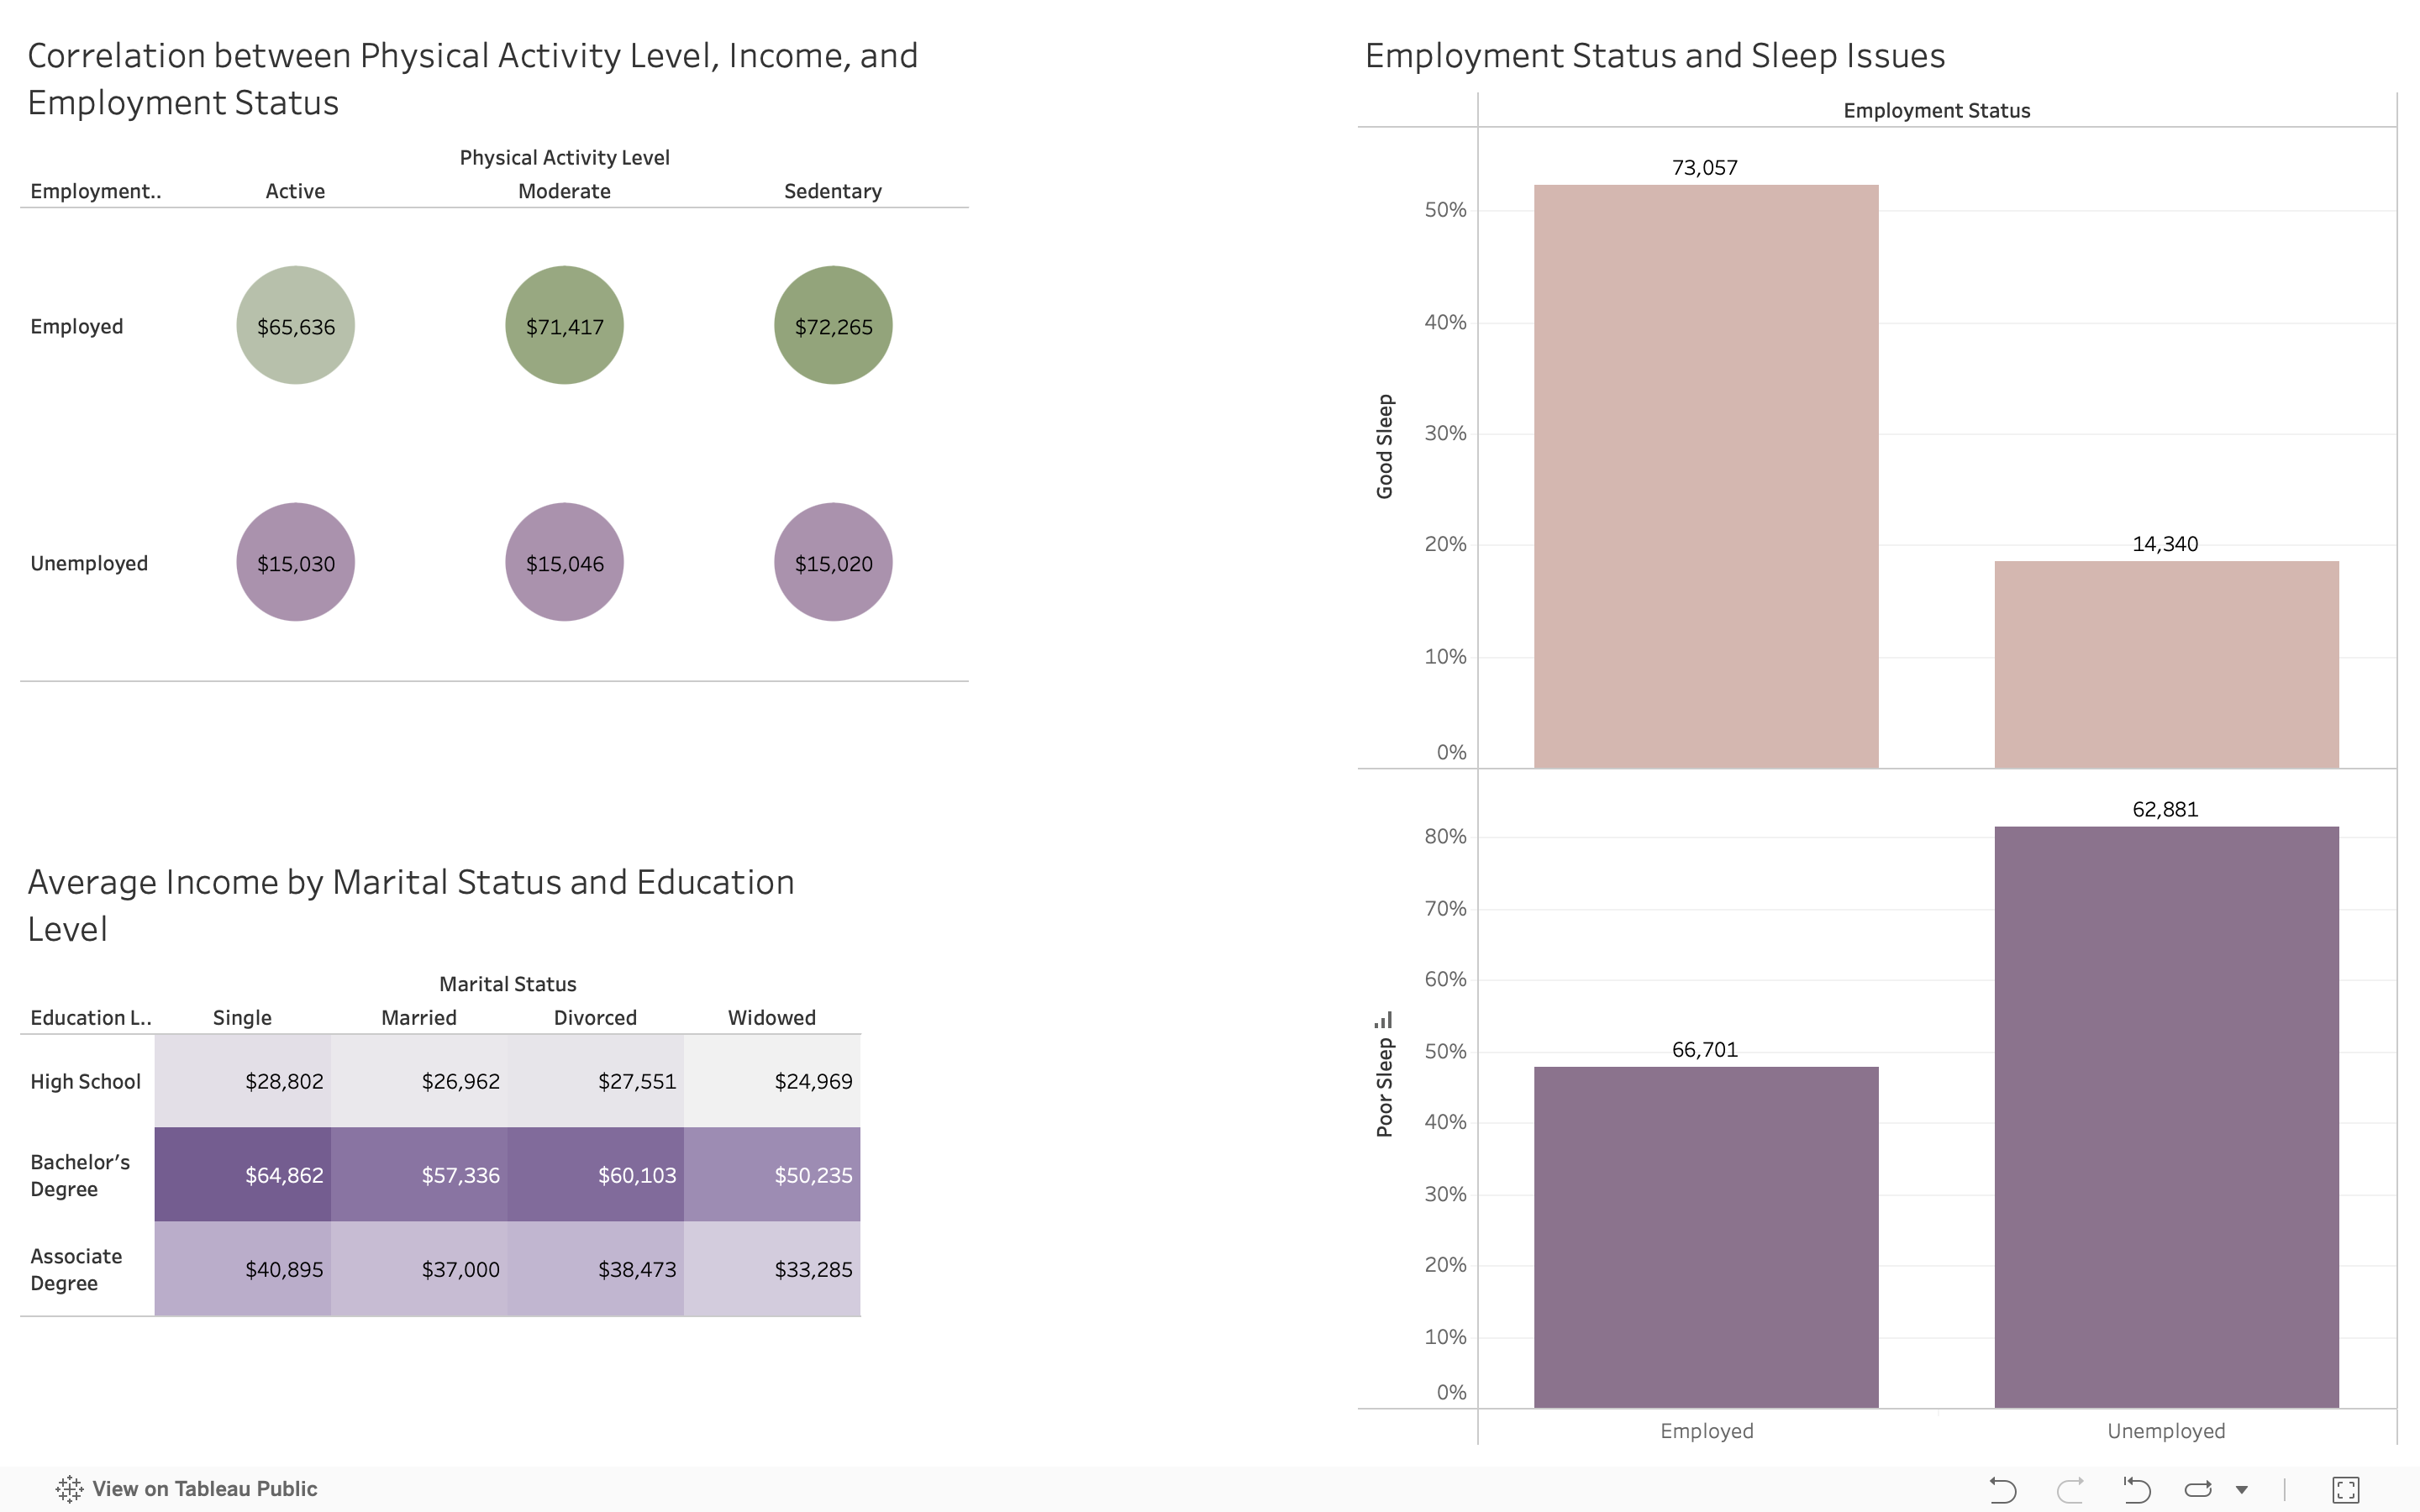

Layout of this report page (visuals, bound fields, positions):
{"tool":"tableau","page":{"name":"Information about people with depression","canvas":[1000,1000],"units":"permille","ordinal":1},"visuals":[{"type":"worksheet","title":"Correlation between Physical Activity Level, Income, and Employment Status","mark":"Pie","rows":["Employment Status"],"cols":["Physical Activity Level"],"box":[6.5,10.4,552.1,562.5]},{"type":"worksheet","title":"Employment Status and Sleep Issues","mark":"Automatic","rows":["Calculation_5429441229613248512","Calculation_5429441229613314049"],"cols":["Employment Status"],"box":[558.6,10.4,434.9,979.2]},{"type":"worksheet","title":"Average Income by Marital Status and Education Level","mark":"Square","rows":["Pivot Field Names"],"cols":["Marital Status"],"box":[6.5,572.9,552.1,416.7]}]}

Visuals, with their boxes on the dashboard's canvas, which has no fixed pixel size, in thousandths of its width and height (x1, y1, x2, y2). These are canvas units, not pixel positions in the 2420x1512 screenshot, which may show the page scaled, cropped or inside an application window:
"Correlation between Physical Activity Level, Income, and Employment Status" worksheet (Pie marks): [left=6, top=10, right=559, bottom=573]
"Employment Status and Sleep Issues" worksheet: [left=559, top=10, right=994, bottom=990]
"Average Income by Marital Status and Education Level" worksheet (Square marks): [left=6, top=573, right=559, bottom=990]
